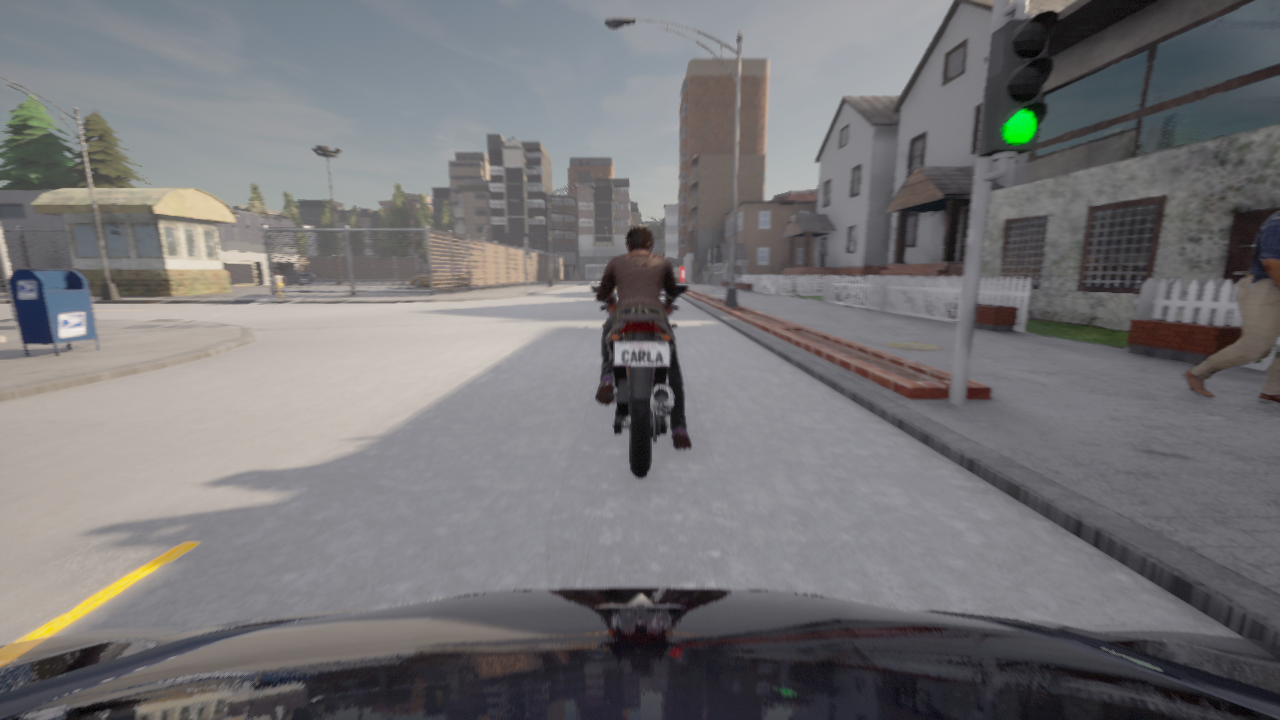cyclist: (0, 588, 1279, 719), (591, 286, 687, 477), (410, 271, 468, 288), (460, 268, 477, 286), (474, 268, 479, 272)
pedestrian: (1180, 211, 1279, 404), (269, 270, 285, 300)
